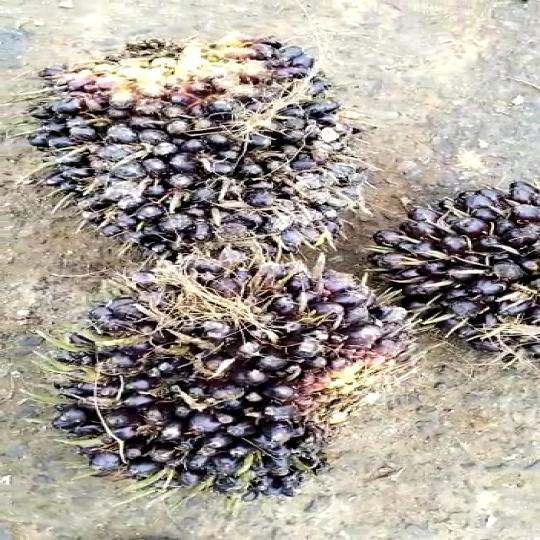mentah: (64, 254, 400, 505), (32, 26, 360, 253)
